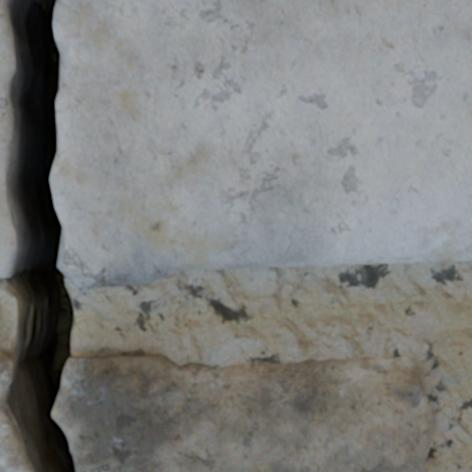broken_brick: (51, 0, 471, 288), (53, 355, 435, 471), (0, 0, 14, 278), (0, 407, 28, 471), (0, 351, 14, 400)
crack: (0, 0, 76, 471)
